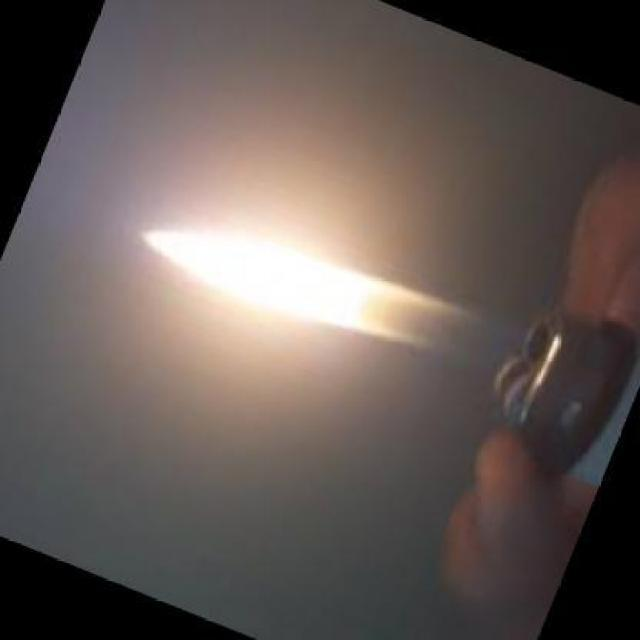fire: (142, 230, 482, 348)
